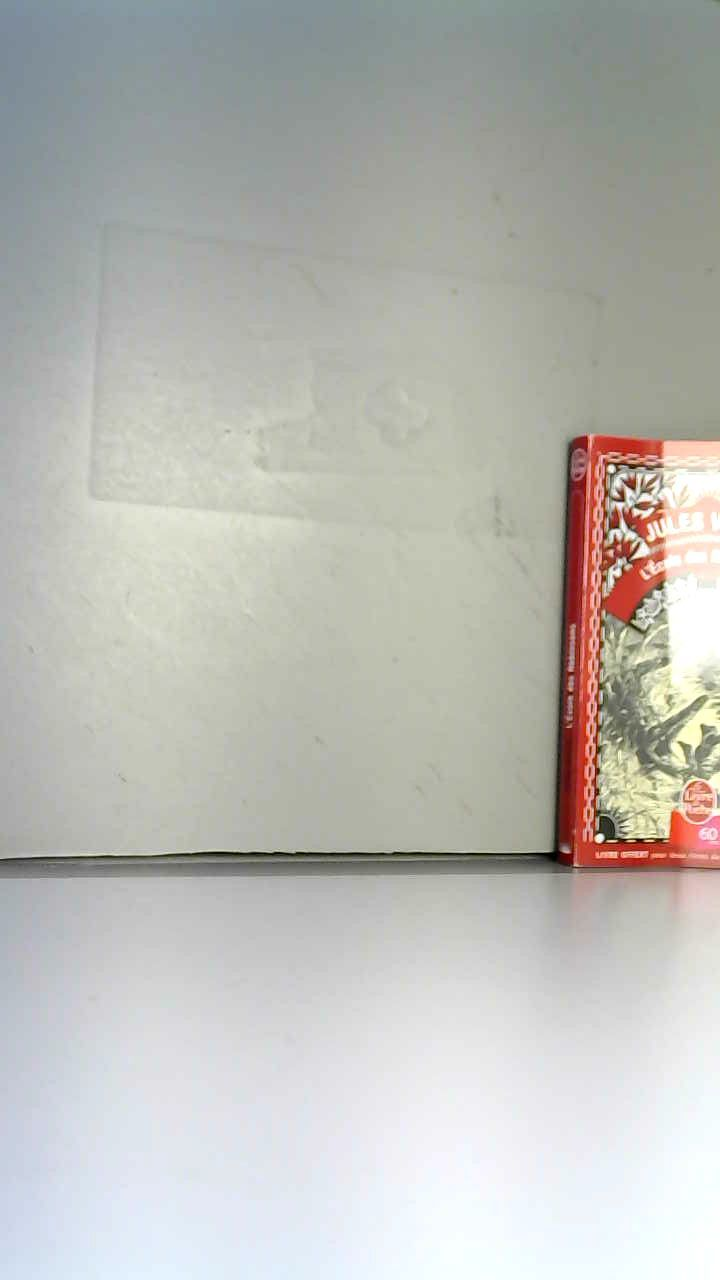book: (527, 414, 720, 901)
